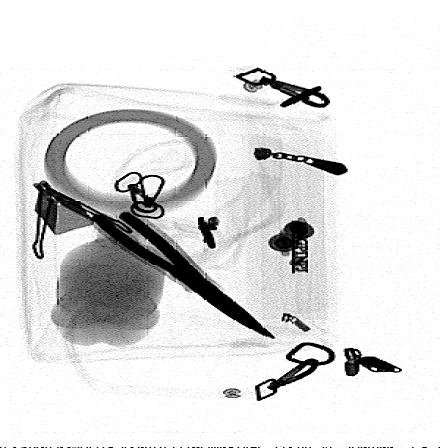Pliers: (88, 209, 276, 339)
